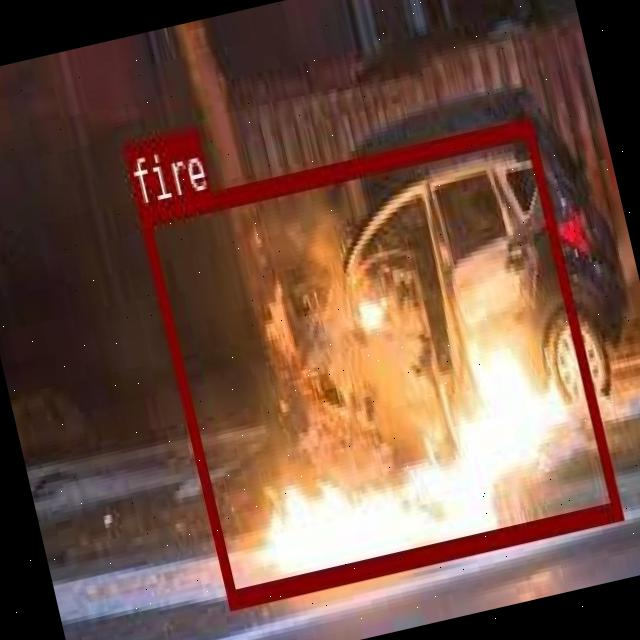fire: (136, 115, 622, 605)
